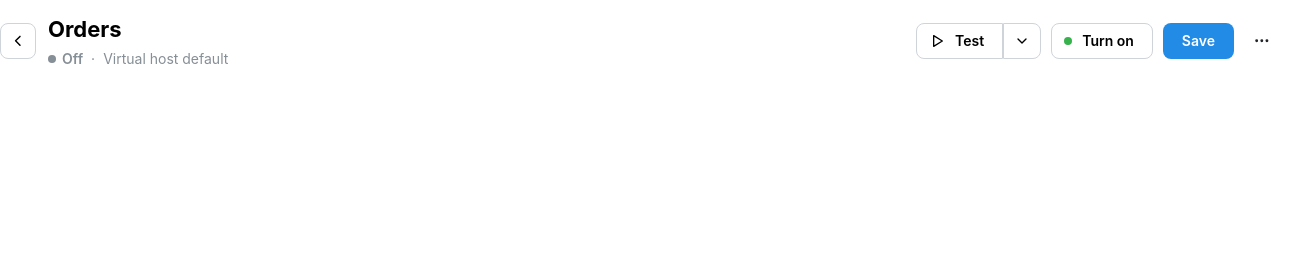
the editor toolbar › folds the test actions under Test ▾
Click the button named "More test actions" at (1022, 41), box [1003,23,1041,59]
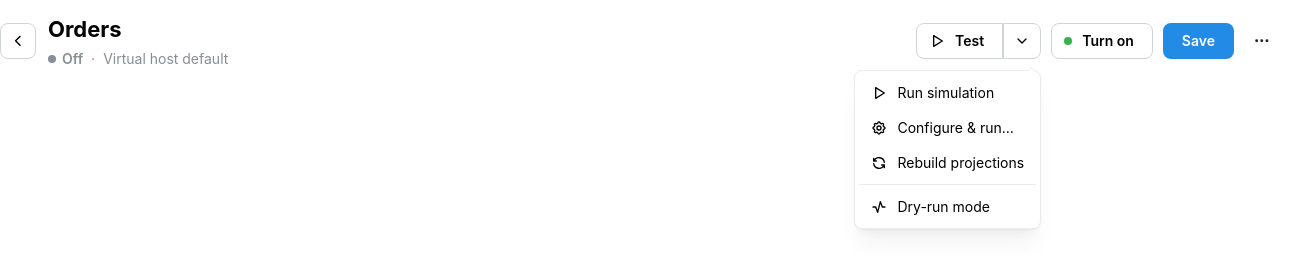
Expected: the menu item "Run simulation" is shown, [860,75,1036,110]
Expected: the menu item "Configure & run…" is shown, [860,110,1036,145]
Expected: the menu item "Rebuild projections" is shown, [860,145,1036,180]
